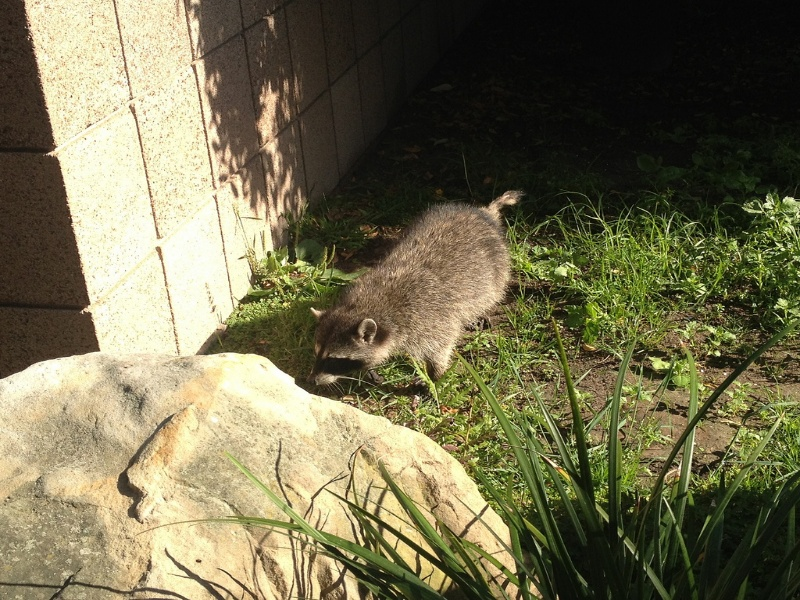raccoon: (301, 180, 527, 404)
